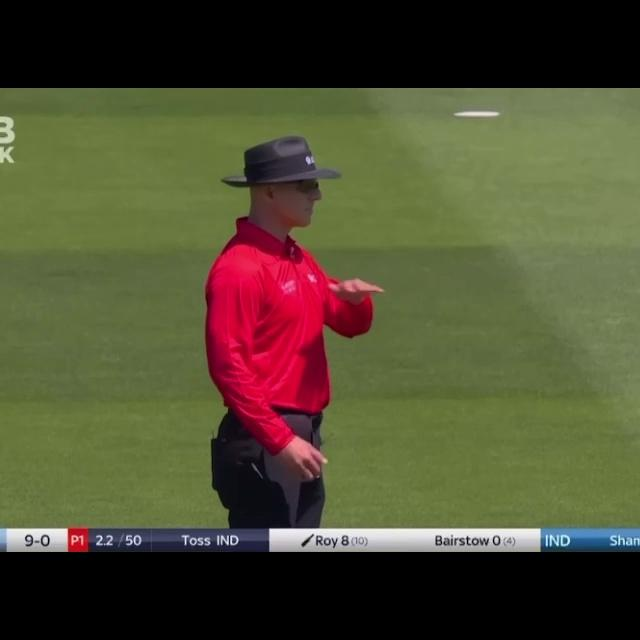umpire: (195, 124, 396, 549)
